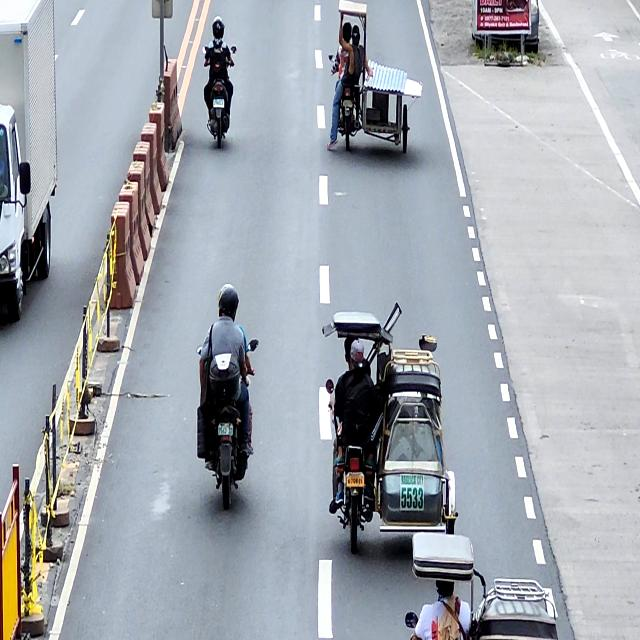License-Plate: (346, 471, 364, 487), (217, 421, 234, 436), (212, 99, 225, 108), (343, 100, 353, 108)
Motorcycle: (196, 338, 259, 509), (202, 44, 236, 148)
Tricycle: (326, 311, 459, 554), (406, 533, 558, 640), (330, 0, 410, 154)
Truck: (0, 0, 58, 322)
